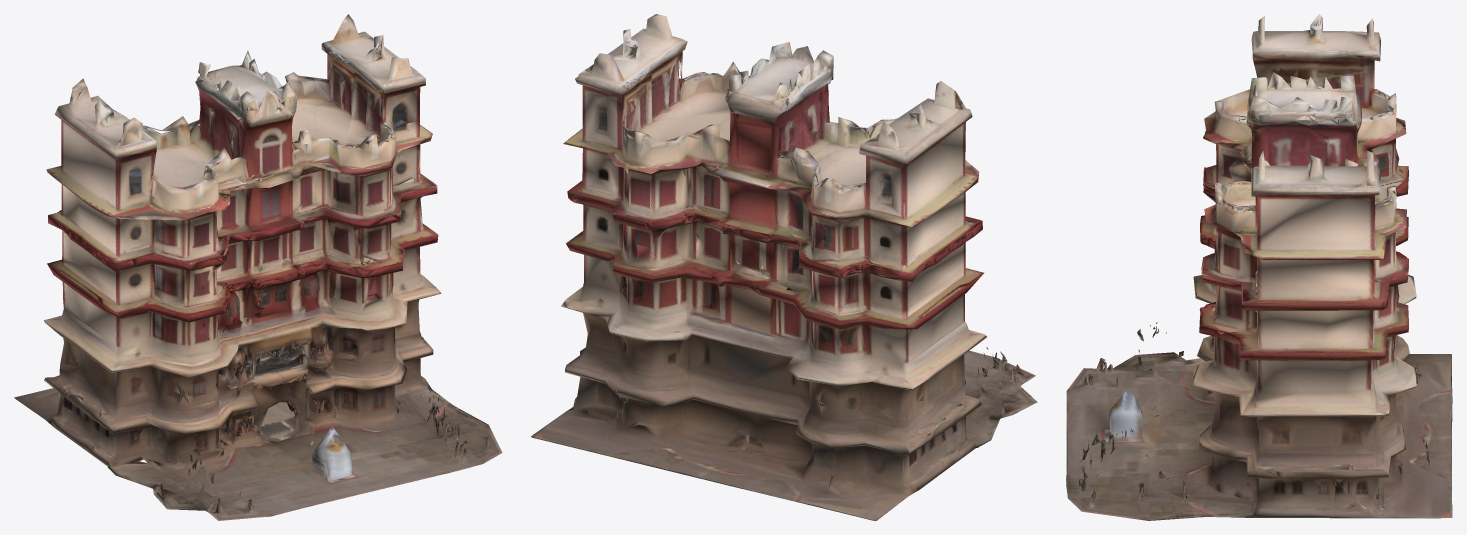
Rendered from Rajwada.glb.
3 renders of one model, left to right at view 1: azimuth 30°, elevation 25°; view 2: azimuth 150°, elevation 25°; view 3: azimuth 270°, elevation 25°, orthographic. The views are drawn at different scales.
Size of the model in its own units: 2.01 by 1.99 by 1.95.
1 material, 1 textured.
